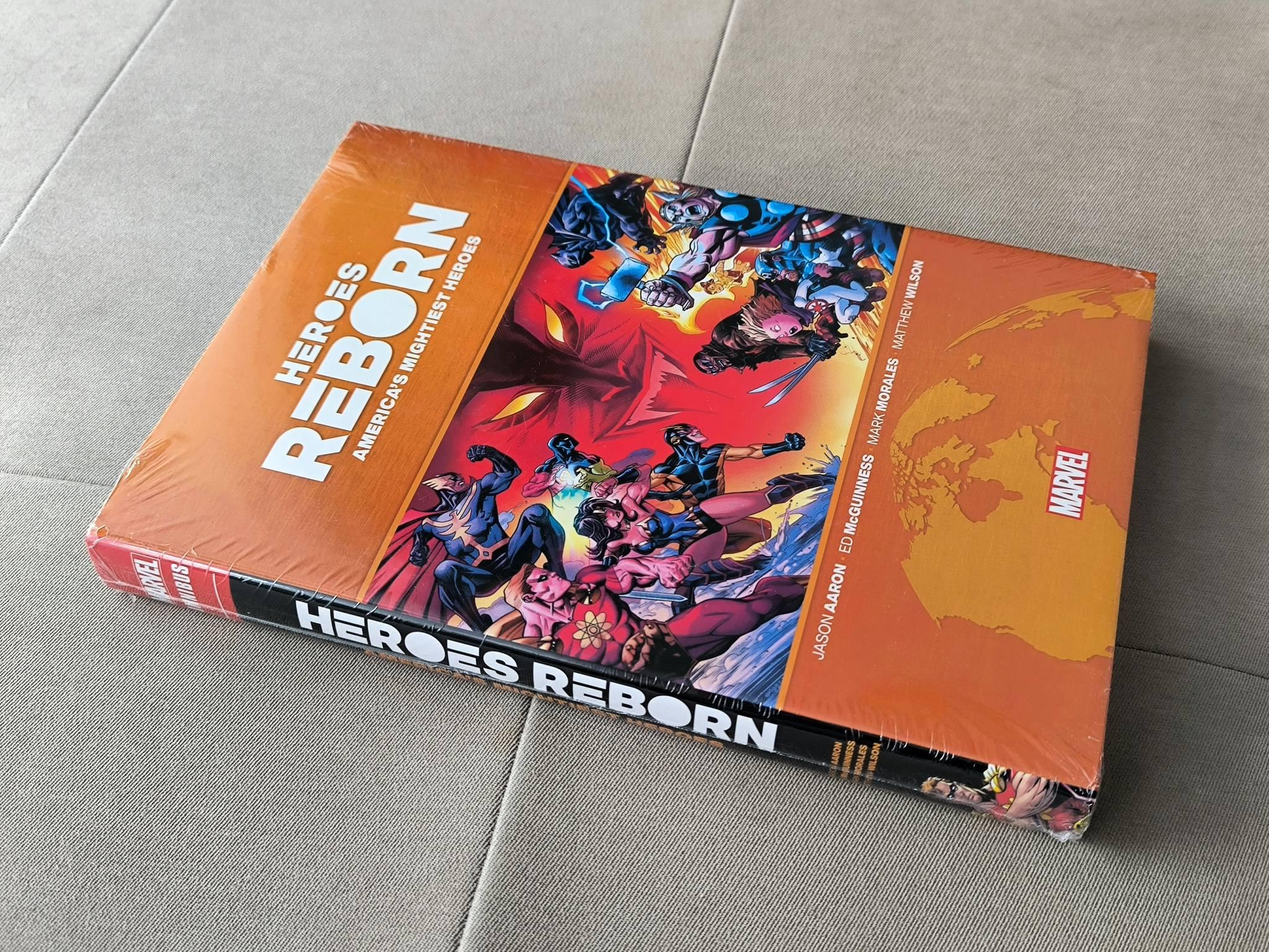comic: (78, 29, 1228, 843)
